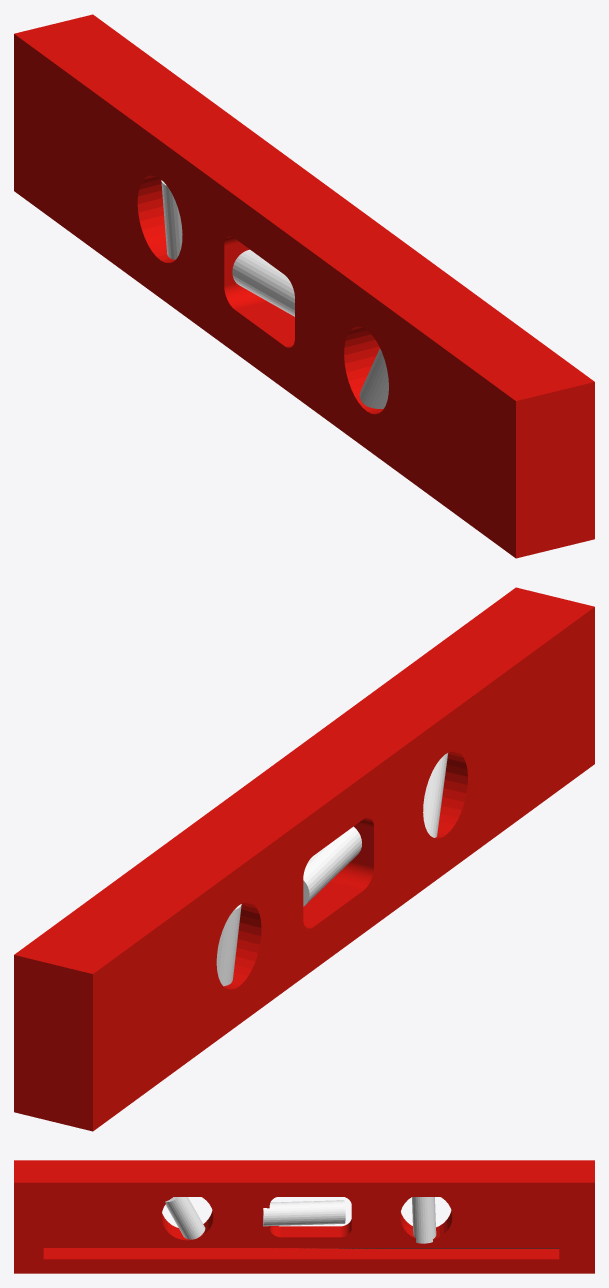
The model's file is kirsiy.gltf.
The picture shows the model from 3 angles, top to bottom: view 1: azimuth 30°, elevation 25°; view 2: azimuth 150°, elevation 25°; view 3: azimuth 270°, elevation 25°; orthographic projection. The views are drawn at different scales.
Visible parts, largest first — view 1: Cube.001, Cylinder.003, Cylinder.001, Cylinder.002; view 2: Cube.001, Cylinder.003, Cylinder.002, Cylinder.001; view 3: Cube.001, Cylinder.003, Cylinder.002, Cylinder.001, Cube.002.
Boxes of the visible parts, box(x1,y1,x2,y2) form: Cube.001: box(14, 14, 594, 558); Cylinder.003: box(232, 249, 294, 316); Cylinder.001: box(359, 348, 388, 408); Cylinder.002: box(161, 180, 182, 259); Cube.001: box(14, 587, 594, 1131); Cylinder.003: box(303, 826, 361, 906); Cylinder.002: box(216, 904, 241, 986); Cylinder.001: box(423, 753, 447, 837); Cube.001: box(14, 1160, 594, 1273); Cylinder.003: box(263, 1200, 345, 1226); Cylinder.002: box(412, 1197, 436, 1243); Cylinder.001: box(165, 1197, 205, 1239); Cube.002: box(278, 1248, 559, 1248).
Bounding box in the file's own units: 1.48 × 2.82 × 16.32.
